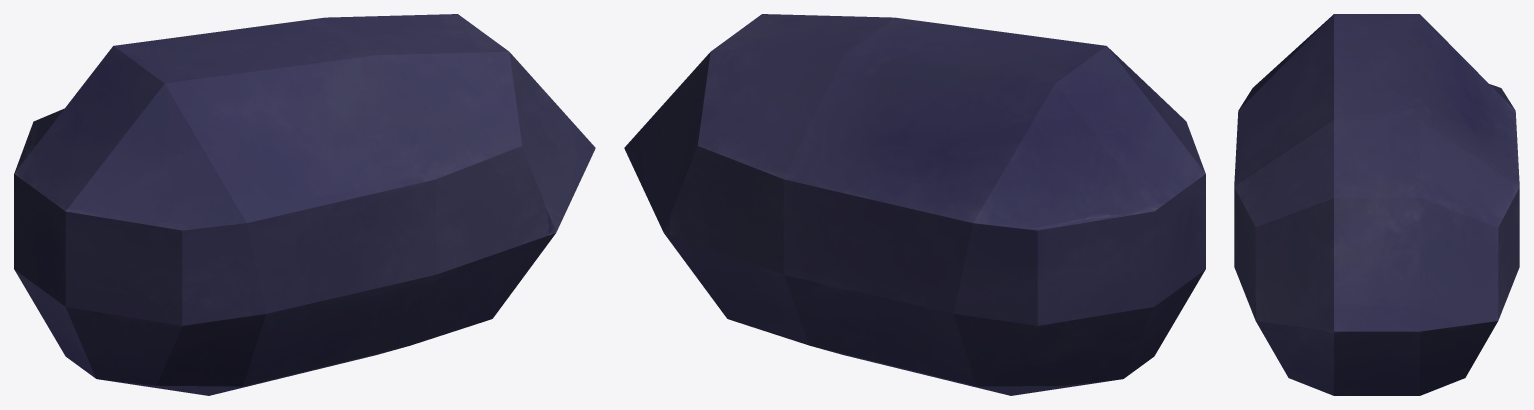
Rendered from Boulder.fbx.
3 renders of one model, left to right at view 1: azimuth 30°, elevation 25°; view 2: azimuth 150°, elevation 25°; view 3: azimuth 270°, elevation 25°, orthographic. The views are drawn at different scales.
Parts seen in each view (by area): view 1: pCube651; view 2: pCube651; view 3: pCube651.
Boxes of the visible parts, <box> form: pCube651: <box>14,14,595,395</box>; pCube651: <box>624,14,1205,395</box>; pCube651: <box>1234,14,1519,395</box>.
Size of the model in its own units: 5.18 by 3.02 by 2.89.
